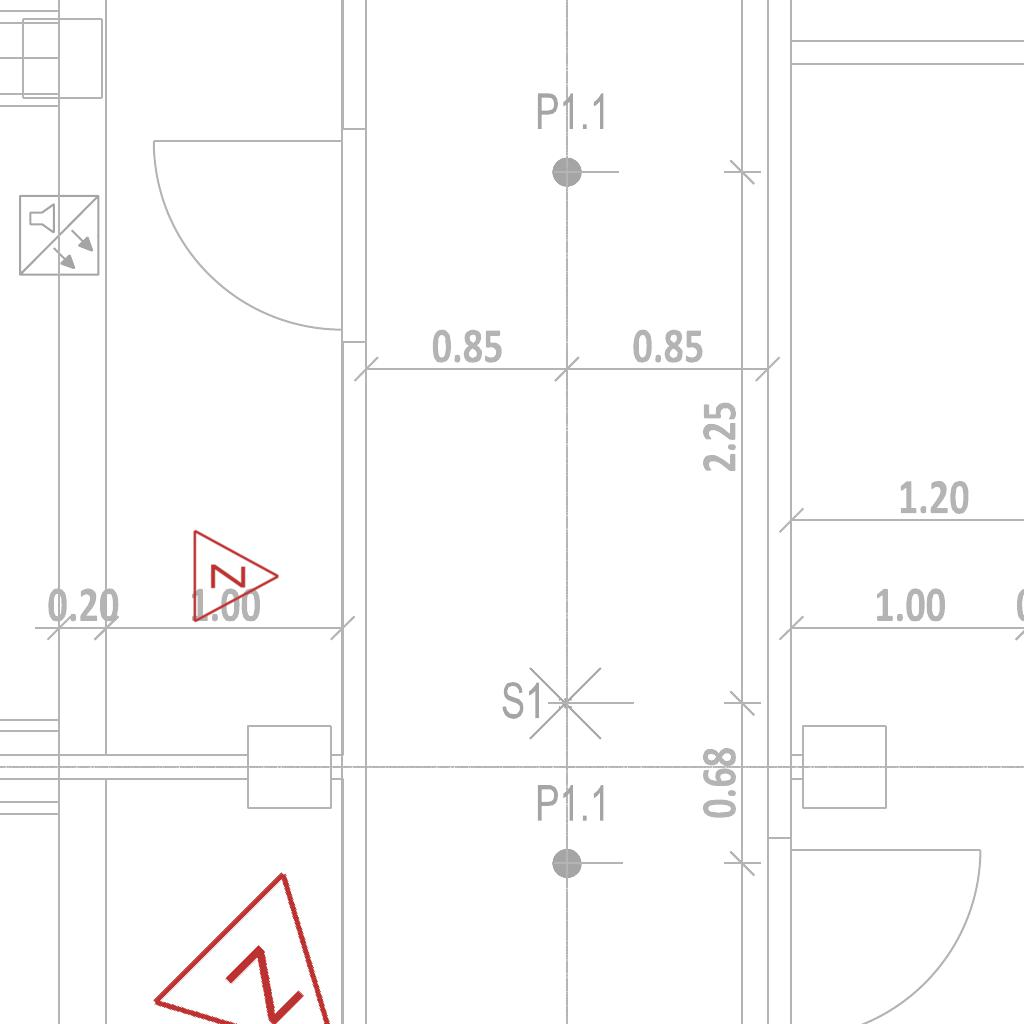Zimmersignalleuchte: (138, 854, 420, 1024), (186, 526, 286, 624)
